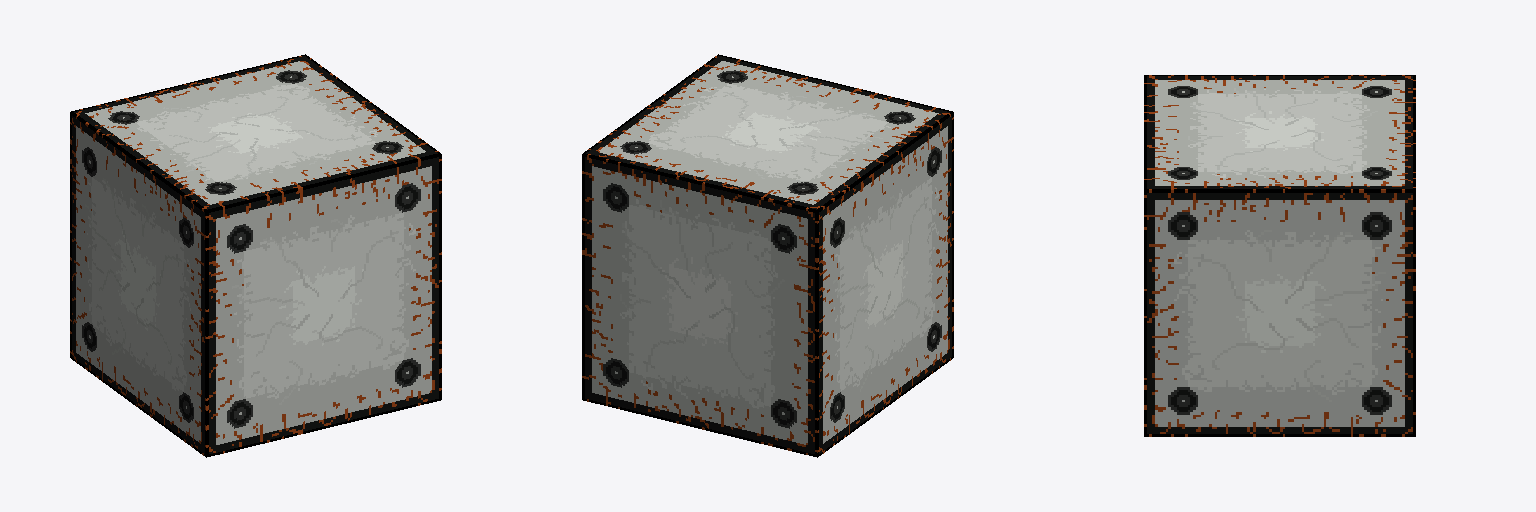
The picture shows the model from 3 angles: view 1: azimuth 30°, elevation 25°; view 2: azimuth 150°, elevation 25°; view 3: azimuth 270°, elevation 25°; orthographic projection.
Parts seen in each view (by area): view 1: object 1; view 2: object 1; view 3: object 1.
Part boxes in pixels (x1,y1,x2,y2): object 1: (70, 54, 441, 457); object 1: (582, 54, 953, 457); object 1: (1144, 75, 1415, 436).
Bounding box in the file's own units: 10 × 10 × 10.
Materials: 1 (1 with a texture image).